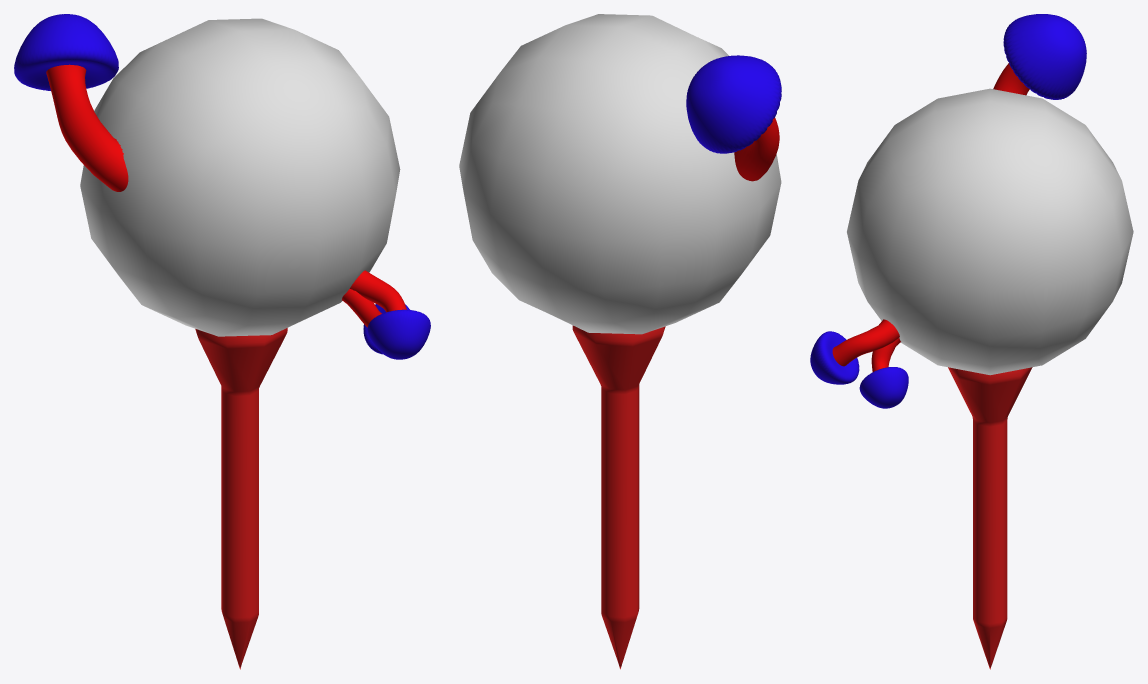
File: Mushroom_Golf_ball.fbx
The picture shows the model from 3 angles, left to right: view 1: azimuth 30°, elevation 25°; view 2: azimuth 150°, elevation 25°; view 3: azimuth 270°, elevation 25°; orthographic projection. The views are drawn at different scales.
Visible parts, largest first — view 1: MESH_GOLF_Ball, MESH_GOLF_Tee, Cylinder.001, Cylinder, Cylinder.002, Cylinder.003, Cylinder.004; view 2: MESH_GOLF_Ball, MESH_GOLF_Tee, Cylinder.001, Cylinder; view 3: MESH_GOLF_Ball, MESH_GOLF_Tee, Cylinder.001, Cylinder.002, Cylinder.005, Cylinder.003, Cylinder, Cylinder.004.
Boxes of the visible parts, bbox=[...] form: MESH_GOLF_Ball: bbox=[80, 18, 400, 336]; MESH_GOLF_Tee: bbox=[195, 328, 287, 669]; Cylinder.001: bbox=[14, 14, 118, 90]; Cylinder: bbox=[46, 64, 128, 191]; Cylinder.002: bbox=[367, 309, 430, 359]; Cylinder.003: bbox=[350, 270, 406, 312]; Cylinder.004: bbox=[342, 289, 381, 327]; MESH_GOLF_Ball: bbox=[459, 14, 781, 334]; MESH_GOLF_Tee: bbox=[572, 325, 665, 669]; Cylinder.001: bbox=[686, 55, 781, 153]; Cylinder: bbox=[734, 118, 779, 181]; MESH_GOLF_Ball: bbox=[847, 88, 1133, 375]; MESH_GOLF_Tee: bbox=[948, 367, 1032, 669]; Cylinder.001: bbox=[1003, 14, 1086, 99]; Cylinder.002: bbox=[810, 331, 859, 384]; Cylinder.005: bbox=[859, 367, 908, 408]; Cylinder.003: bbox=[832, 319, 899, 366]; Cylinder: bbox=[993, 63, 1029, 95]; Cylinder.004: bbox=[871, 338, 900, 371].
Size of the model in its own units: 98.24 by 190 by 94.15.
